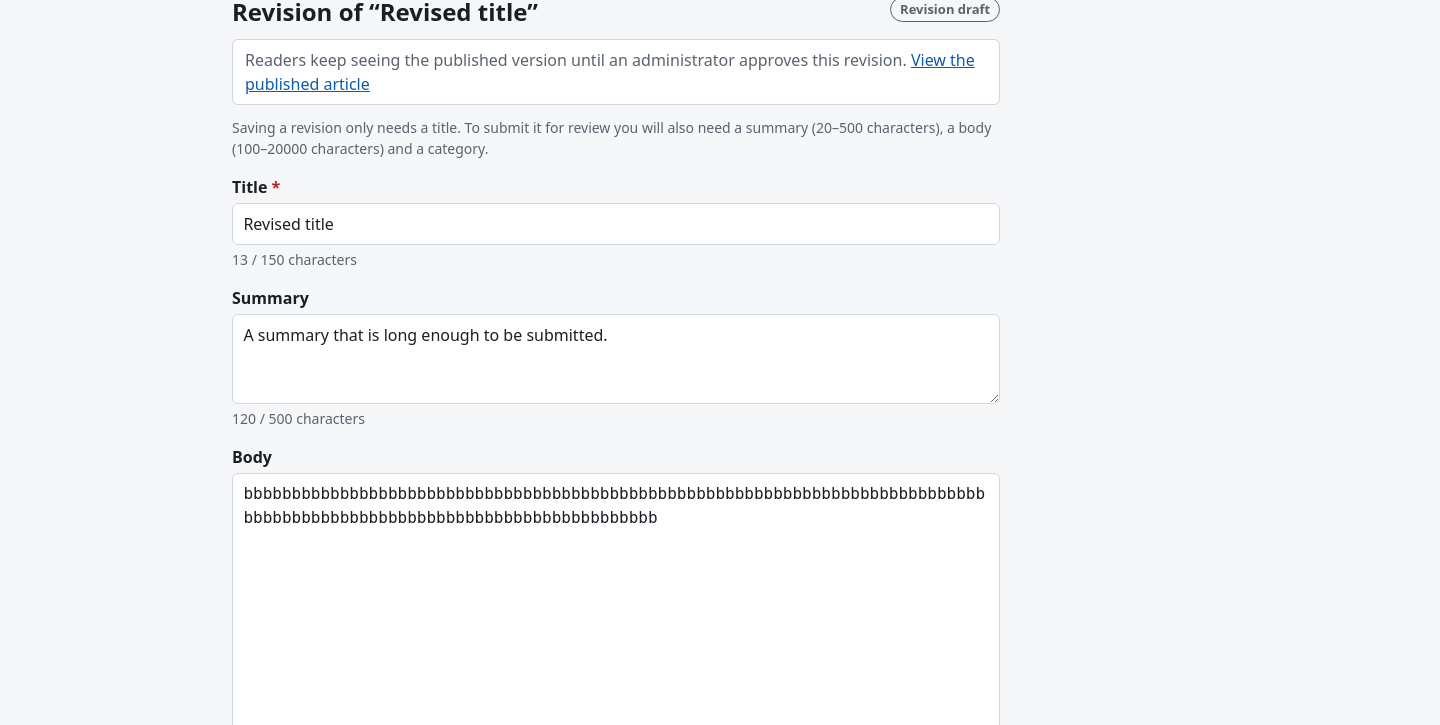
Test case: a draft revision › saves unsaved changes first, then submits after confirmation, and becomes read-only
In the field with test id "revision-title": (616, 224) [232,203,1000,245], type " v2"
(page scrolled)
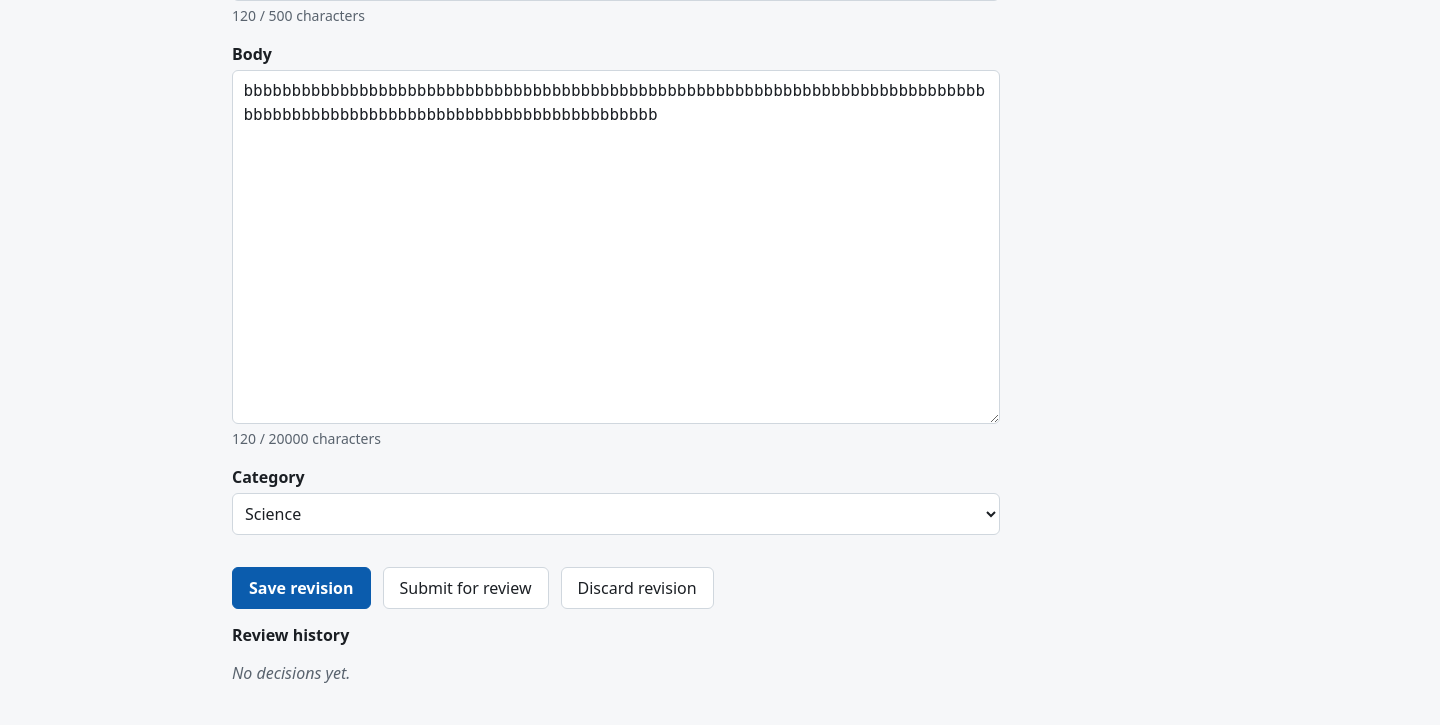
Click the button with test id "revision-submit": (466, 588) [382,567,548,609]
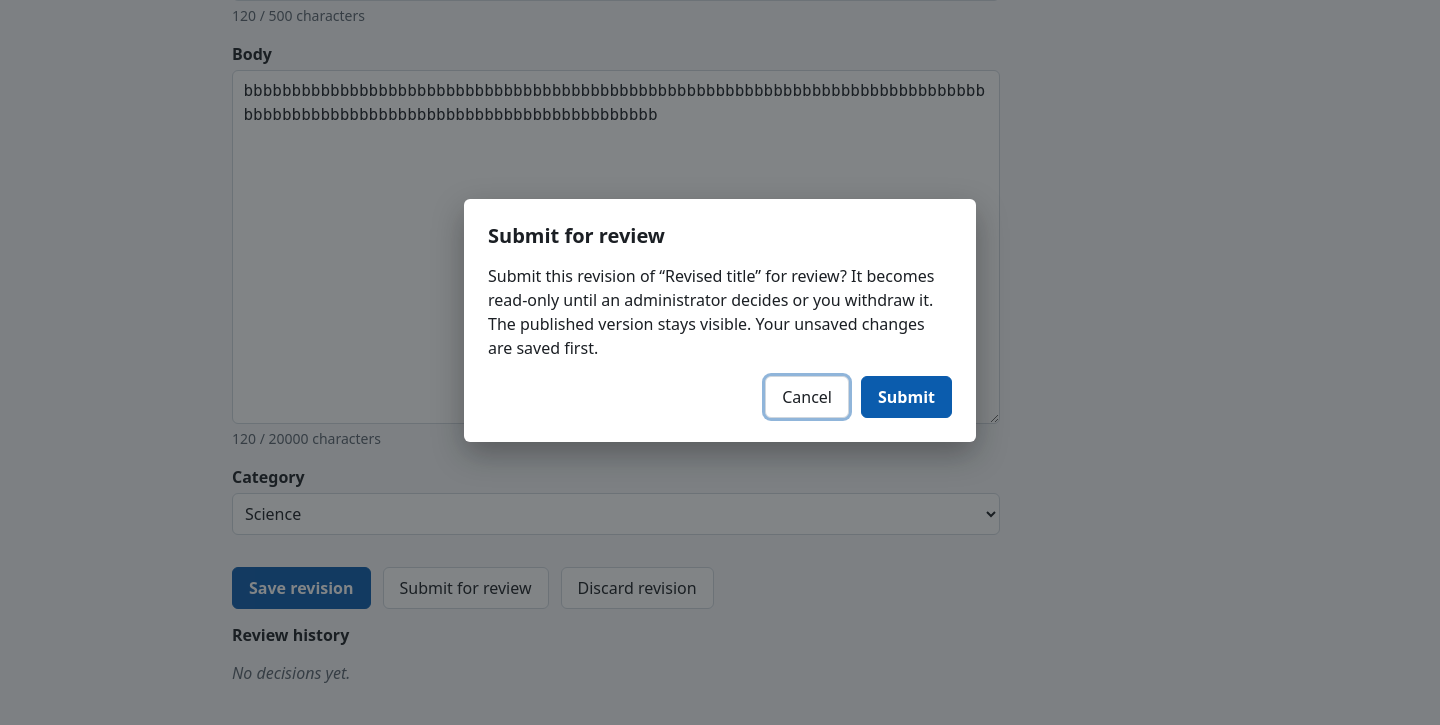
Click the button with test id "revision-submit-confirm": (906, 396) [861,376,952,418]
(page scrolled)
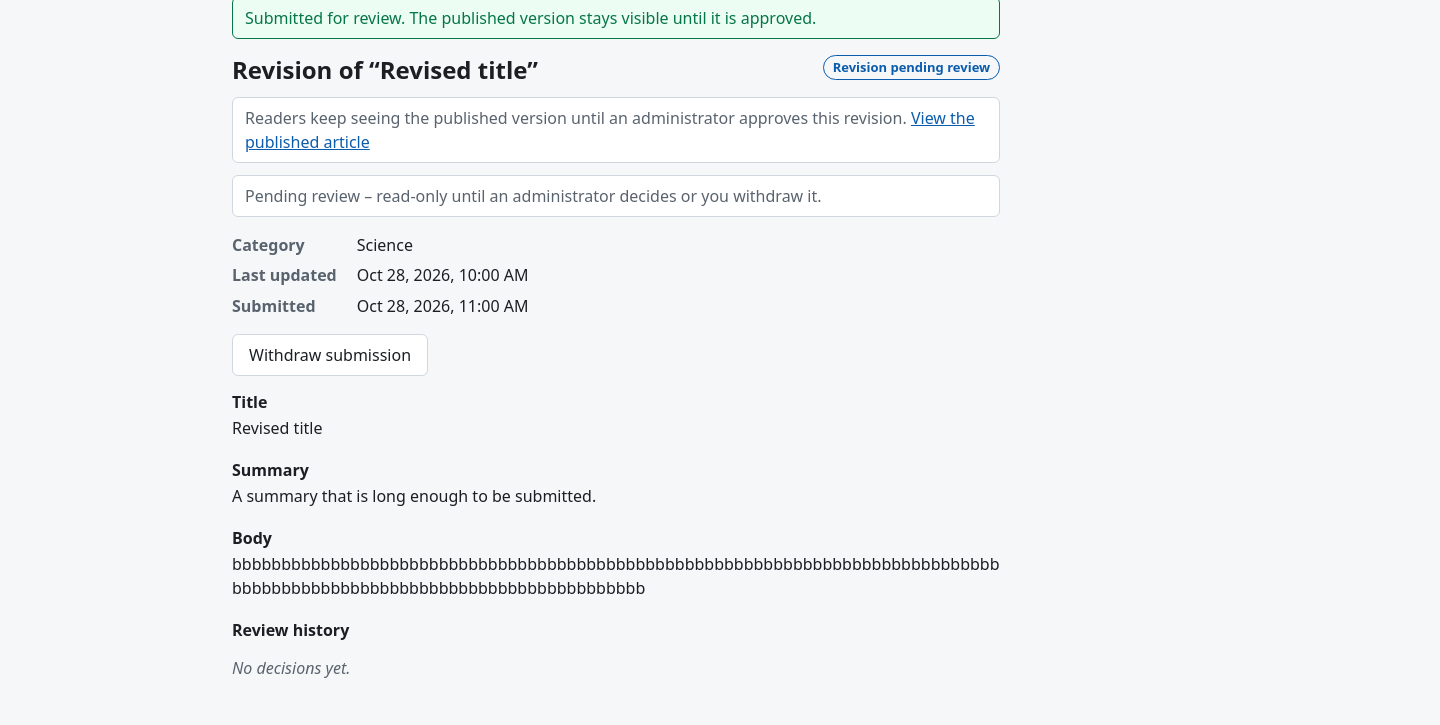
Expected: the text with test id "revision-readonly-notice" reads "Pending review – read-only until an administrator decides or you withdraw it.", [245,185,822,207]
Expected: the text with test id "revision-status-badge" reads "Revision pending review", [833,58,990,76]
Expected: the message with test id "revision-flash" shows "published version stays visible", [245,7,816,29]
